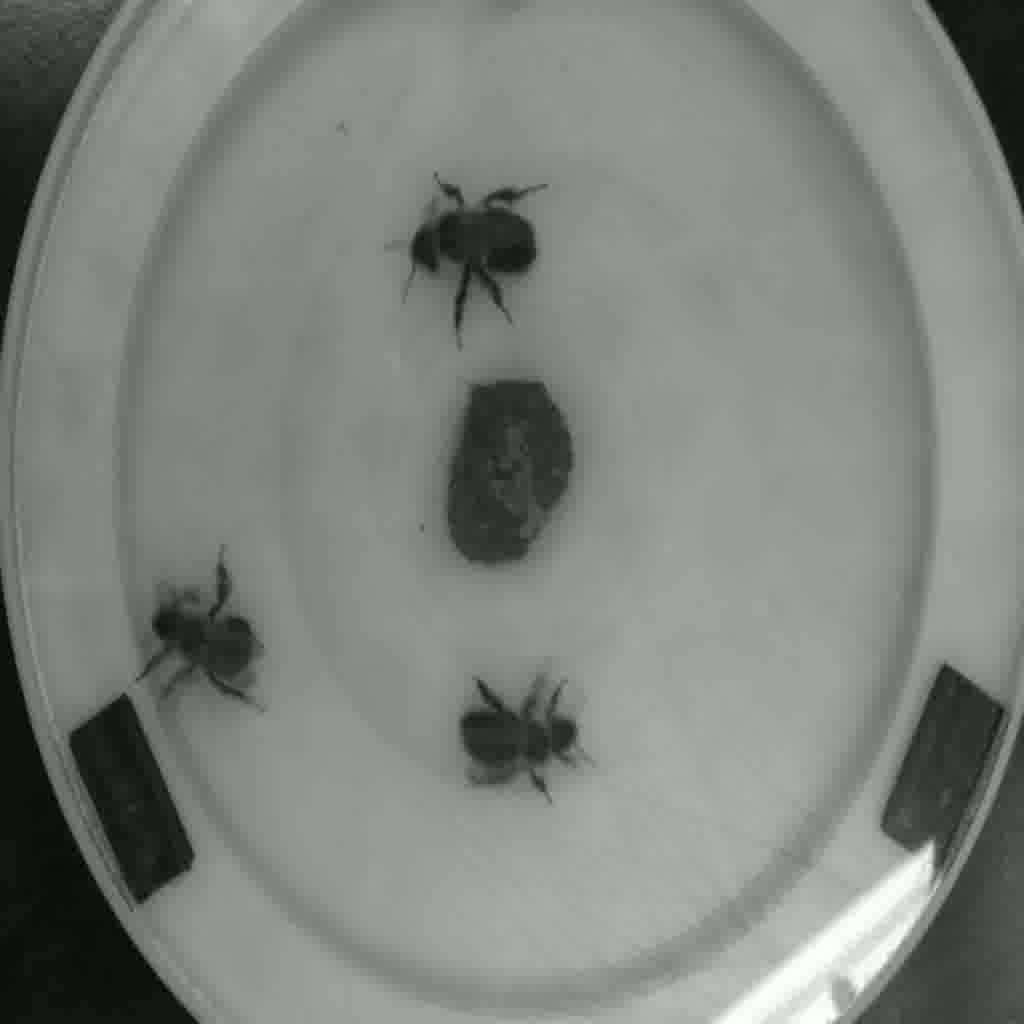bee: (404, 192, 544, 312), (464, 663, 589, 794), (142, 581, 264, 701)
